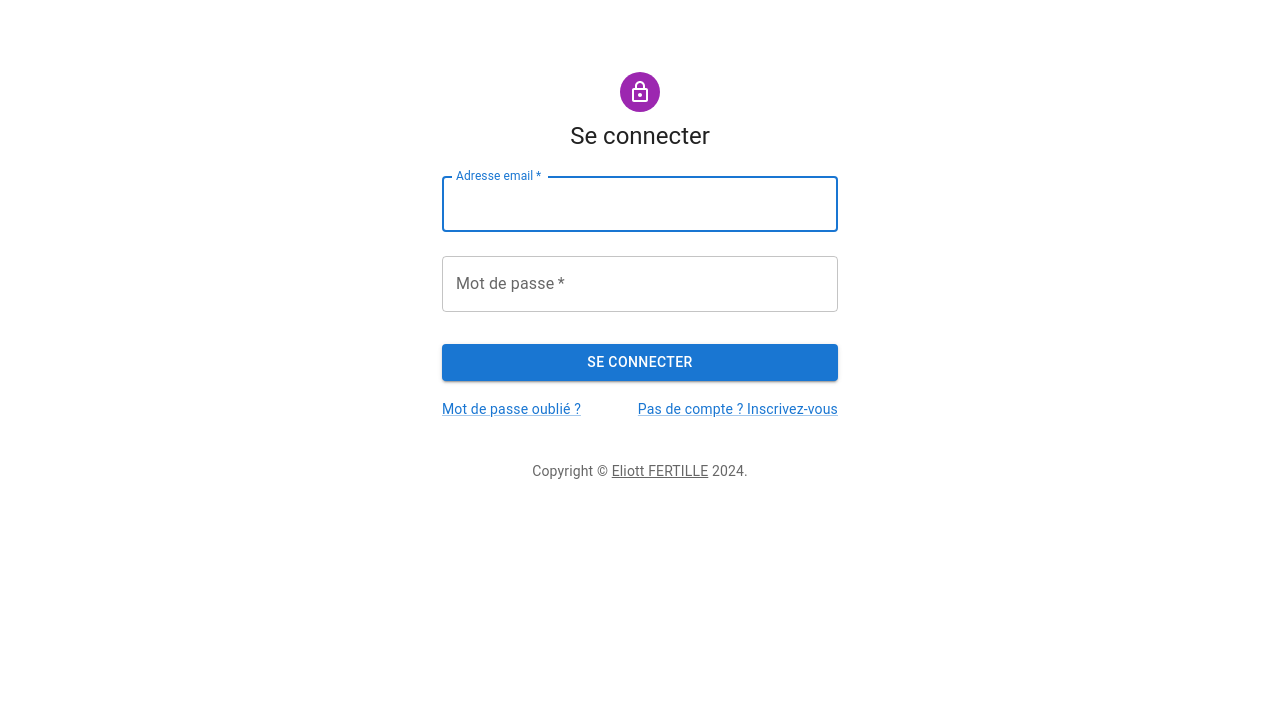
Test: Session Creation › should show an error if the session title is empty
Type "user1@gmail.com" into the field named "email".
click(640, 204); type("user1@gmail.com")  # box [442,176,838,232]
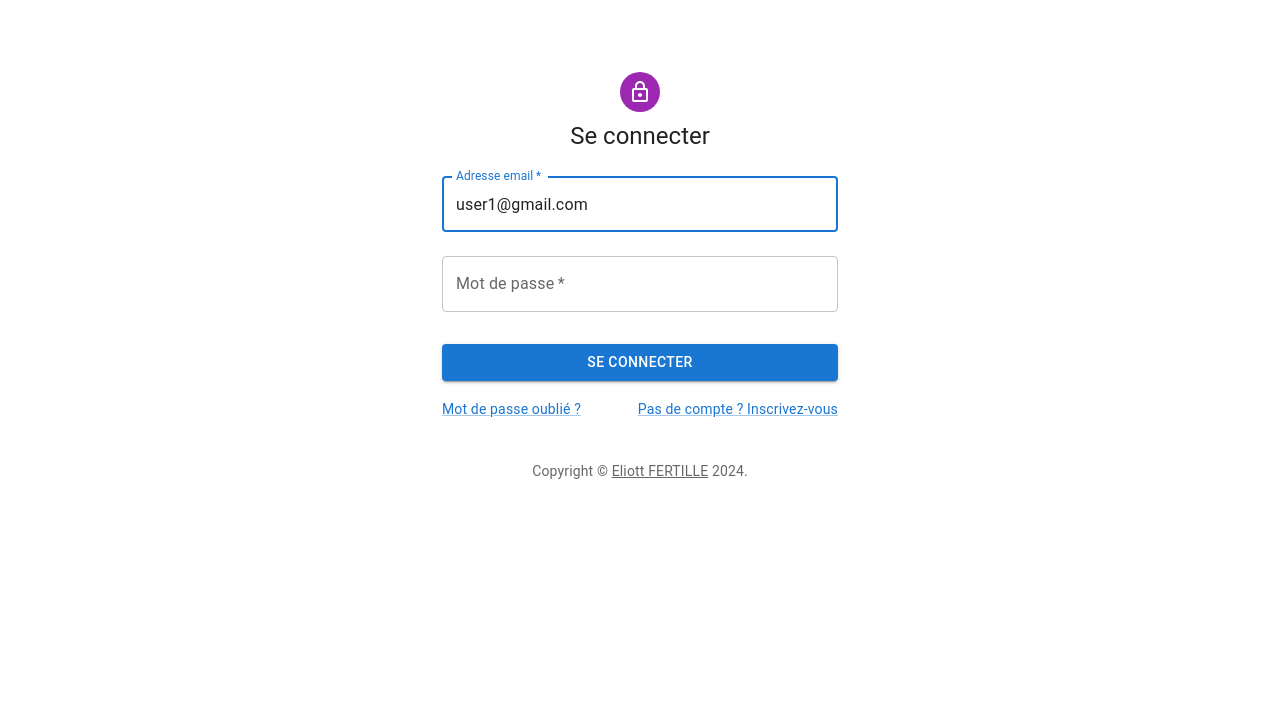
Type "123456789" into the password field named "password".
click(640, 284); type("123456789")  # box [442,256,838,312]
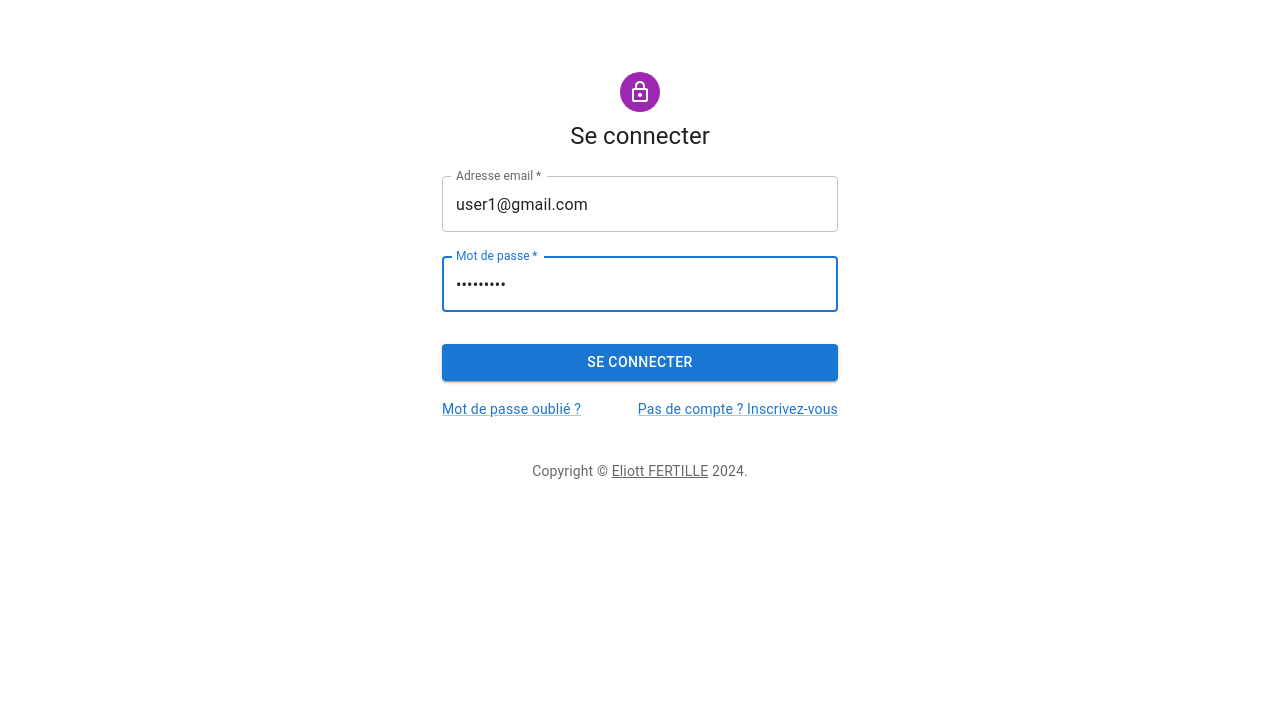
Click the submit button.
click(640, 363)  # box [442,344,838,381]
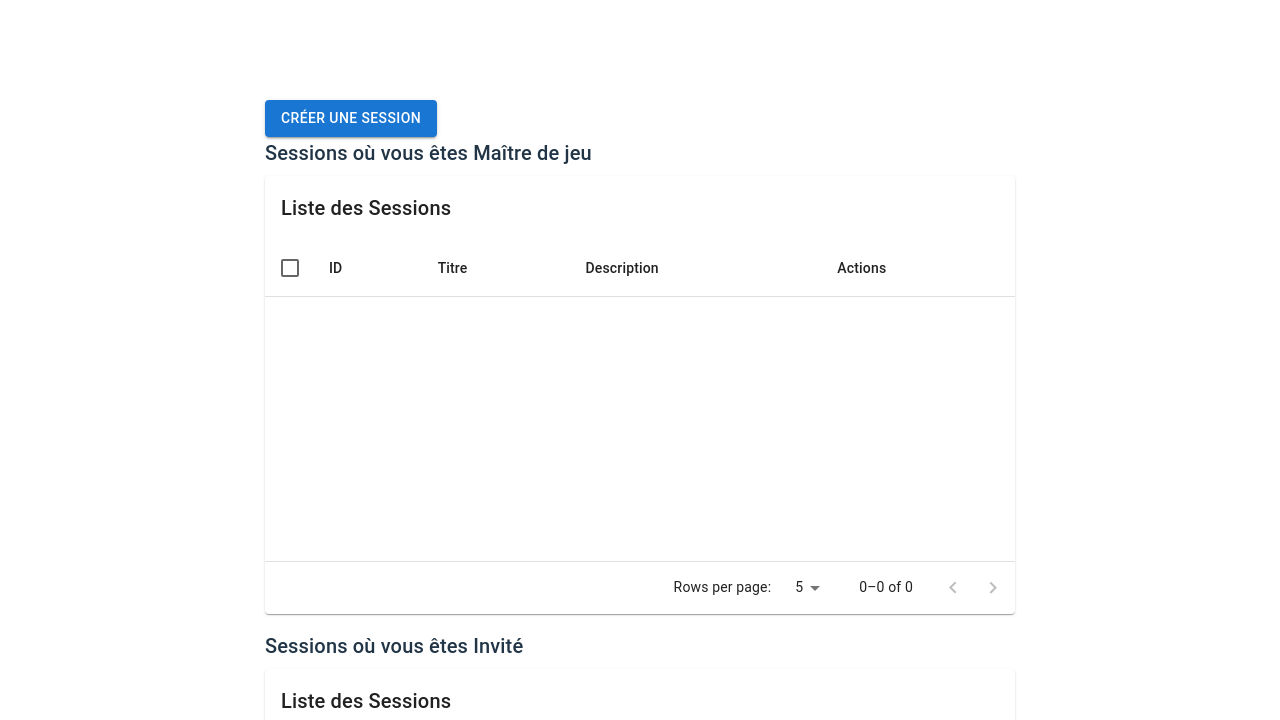
Click the button "Créer une session".
click(351, 119)  # box [265,100,437,137]
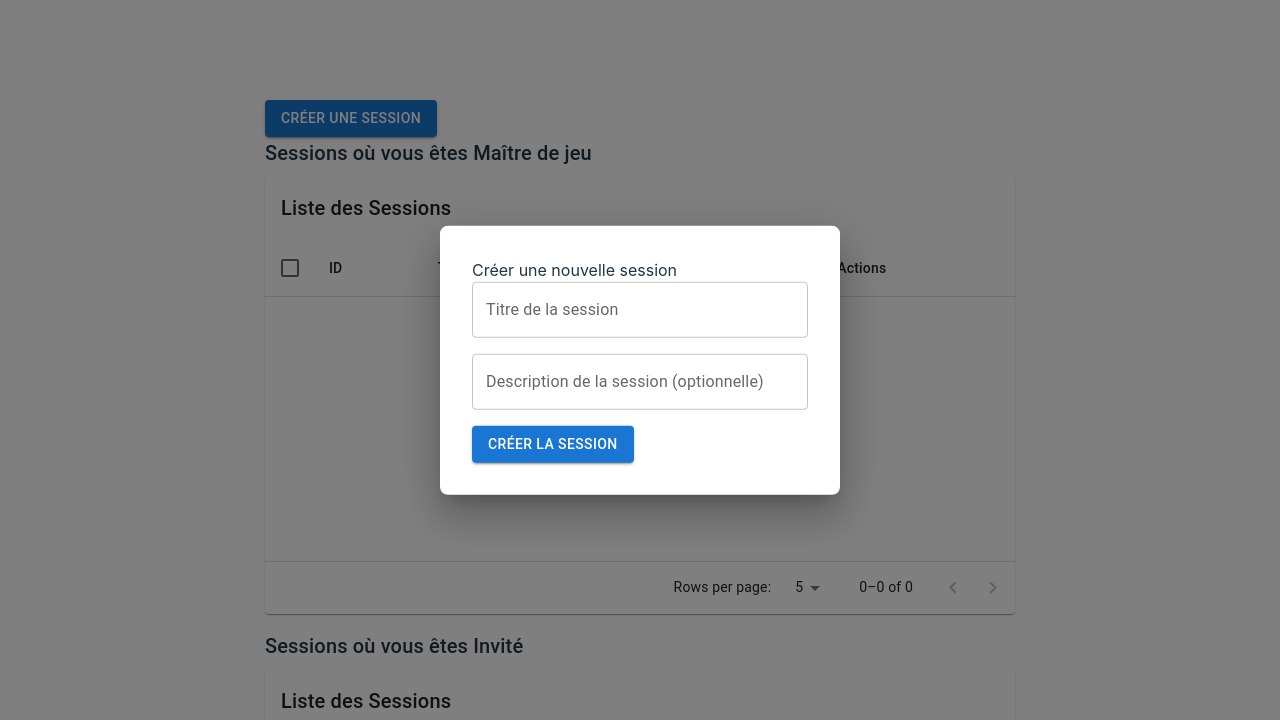
Click the button with test id "create-session-button".
click(553, 445)  # box [472,426,634,463]
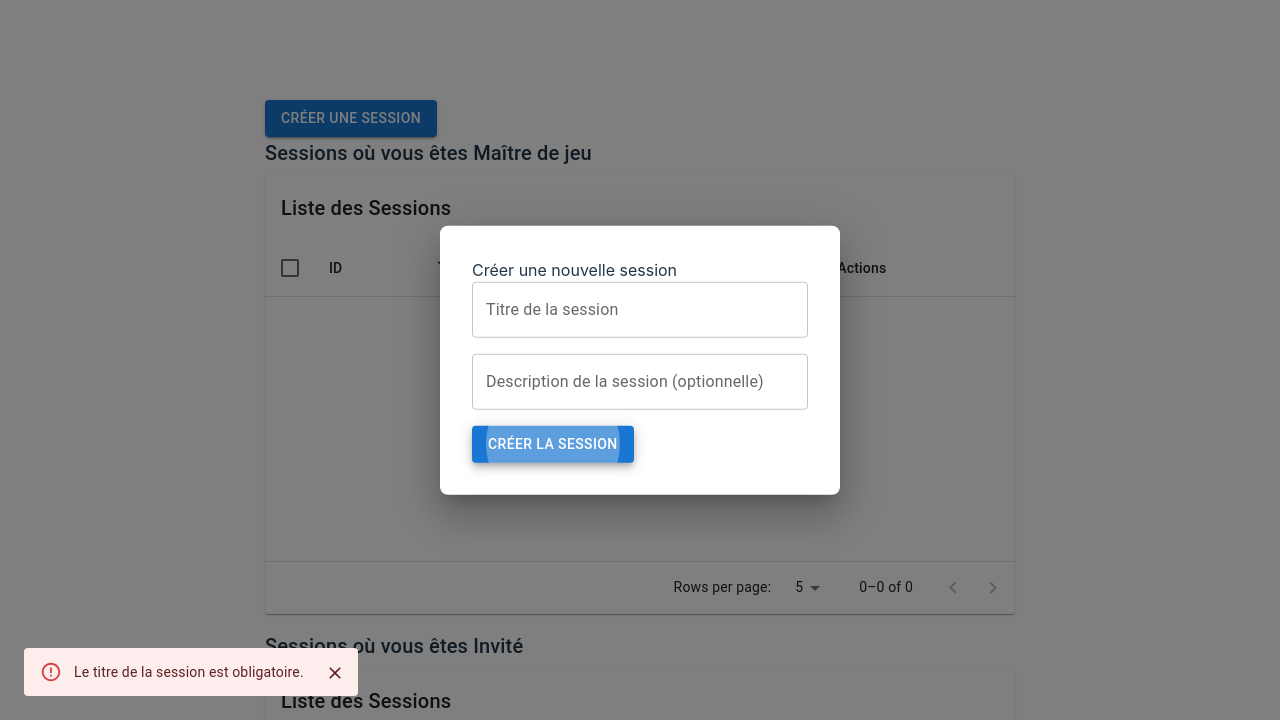
expect the text "Le titre de la session est obligatoire." is shown: met, box [74,664,304,680]
